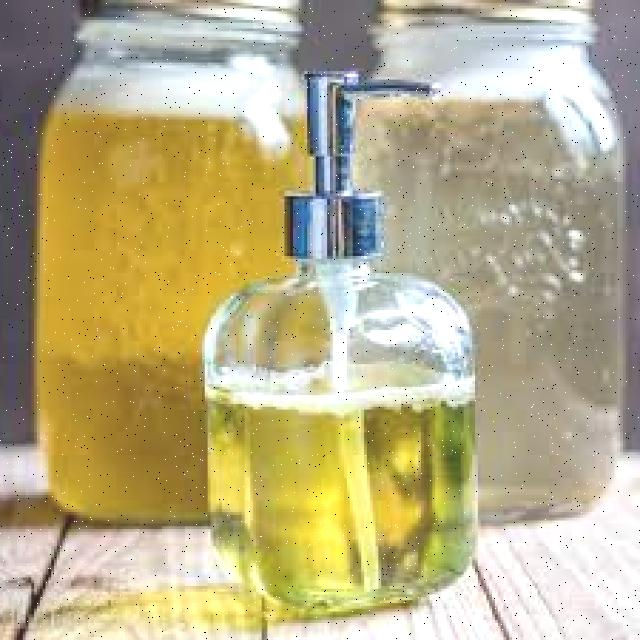liquid soap: (199, 63, 473, 620)
